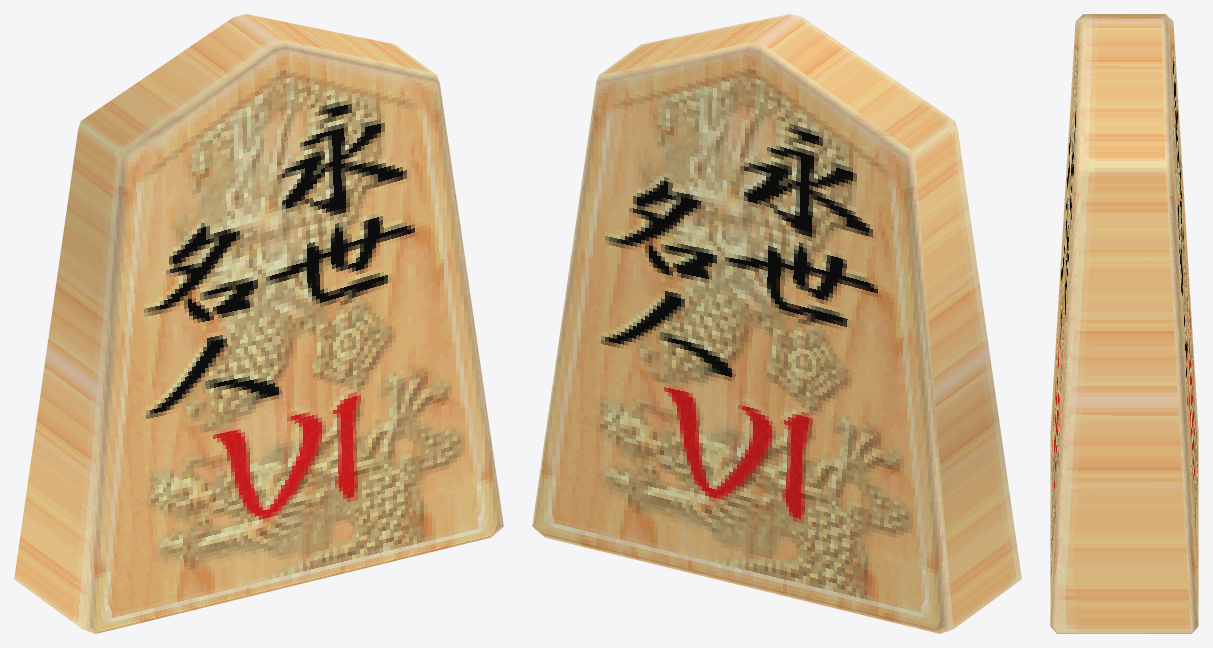
File: ps2_save-icons_eiseimeijinvi.glb
3 views of the same model, side by side, from view 1: azimuth 30°, elevation 25°; view 2: azimuth 150°, elevation 25°; view 3: azimuth 270°, elevation 25° (orthographic). The views are drawn at different scales.
Visible parts, largest first — view 1: icon_1; view 2: icon_1; view 3: icon_1.
Part boxes in pixels (x1,y1,x2,y2): icon_1: [14, 14, 503, 633]; icon_1: [532, 14, 1021, 633]; icon_1: [1050, 14, 1198, 633].
Size of the model in its own units: 4.15 by 5 by 1.3.
Materials: 1 (1 with a texture image).
